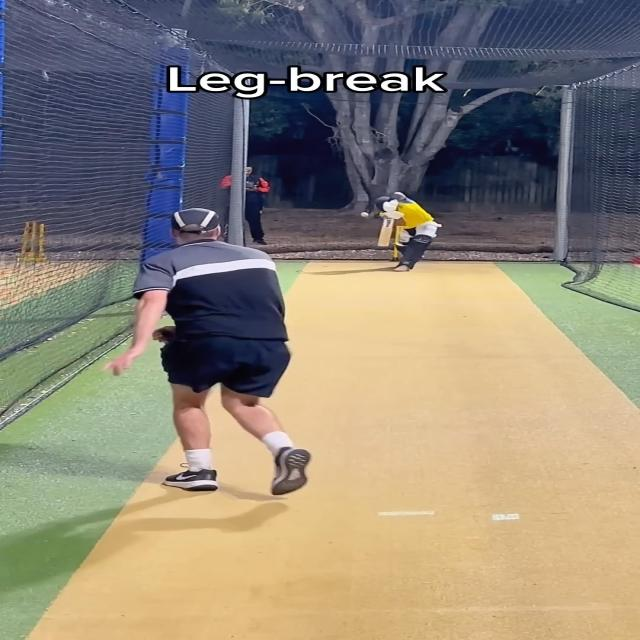Cricket ball: (360, 212, 369, 217)
